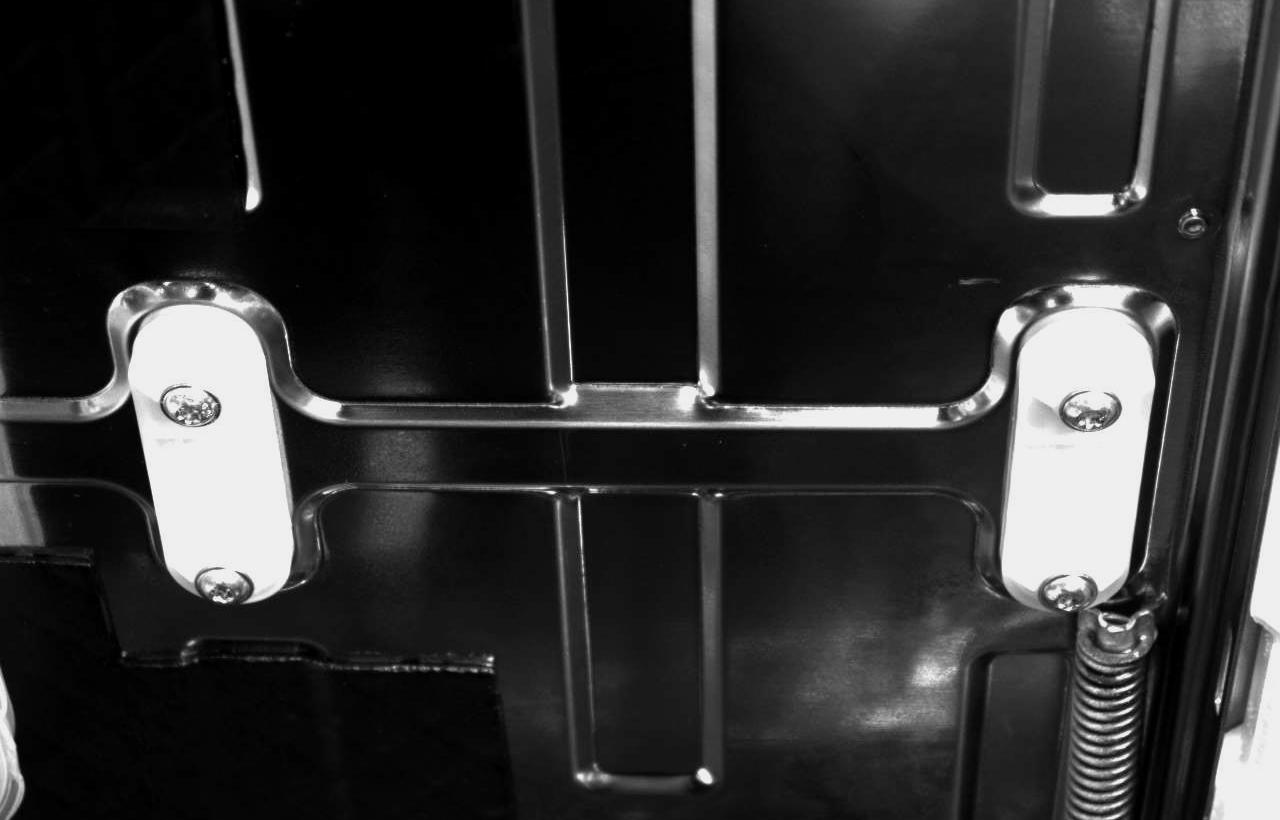vida-ok: (149, 374, 236, 452), (1044, 372, 1132, 445), (180, 557, 257, 622), (1033, 565, 1109, 623)
